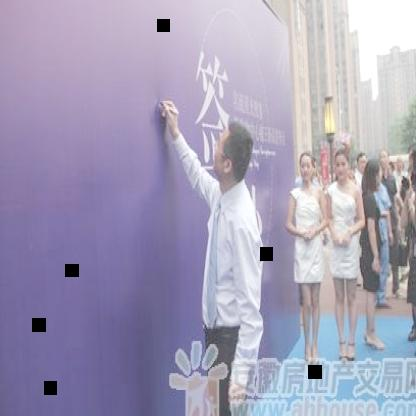head: (214, 122, 257, 194), (334, 144, 354, 186), (366, 159, 386, 193), (298, 148, 316, 184), (357, 150, 369, 176), (378, 148, 390, 172)
